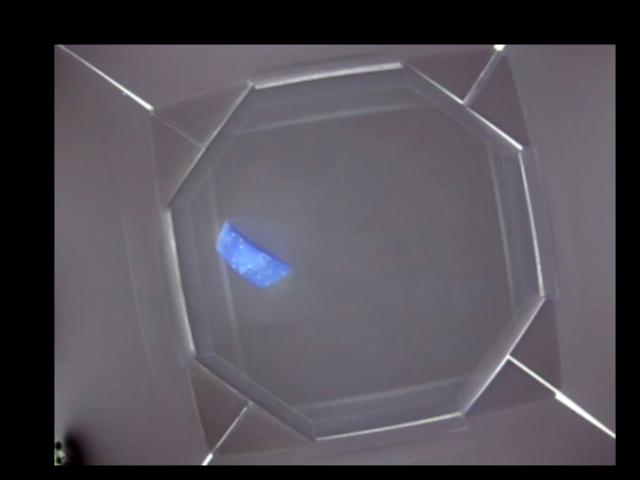Potato: (216, 220, 288, 288)
